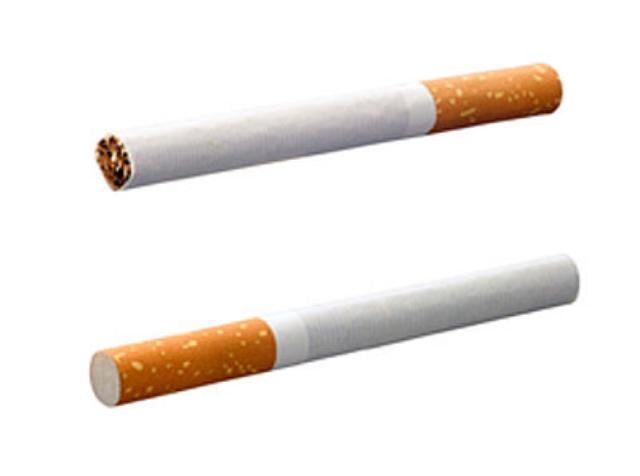Cigarette: (88, 252, 582, 410), (96, 61, 564, 191)
